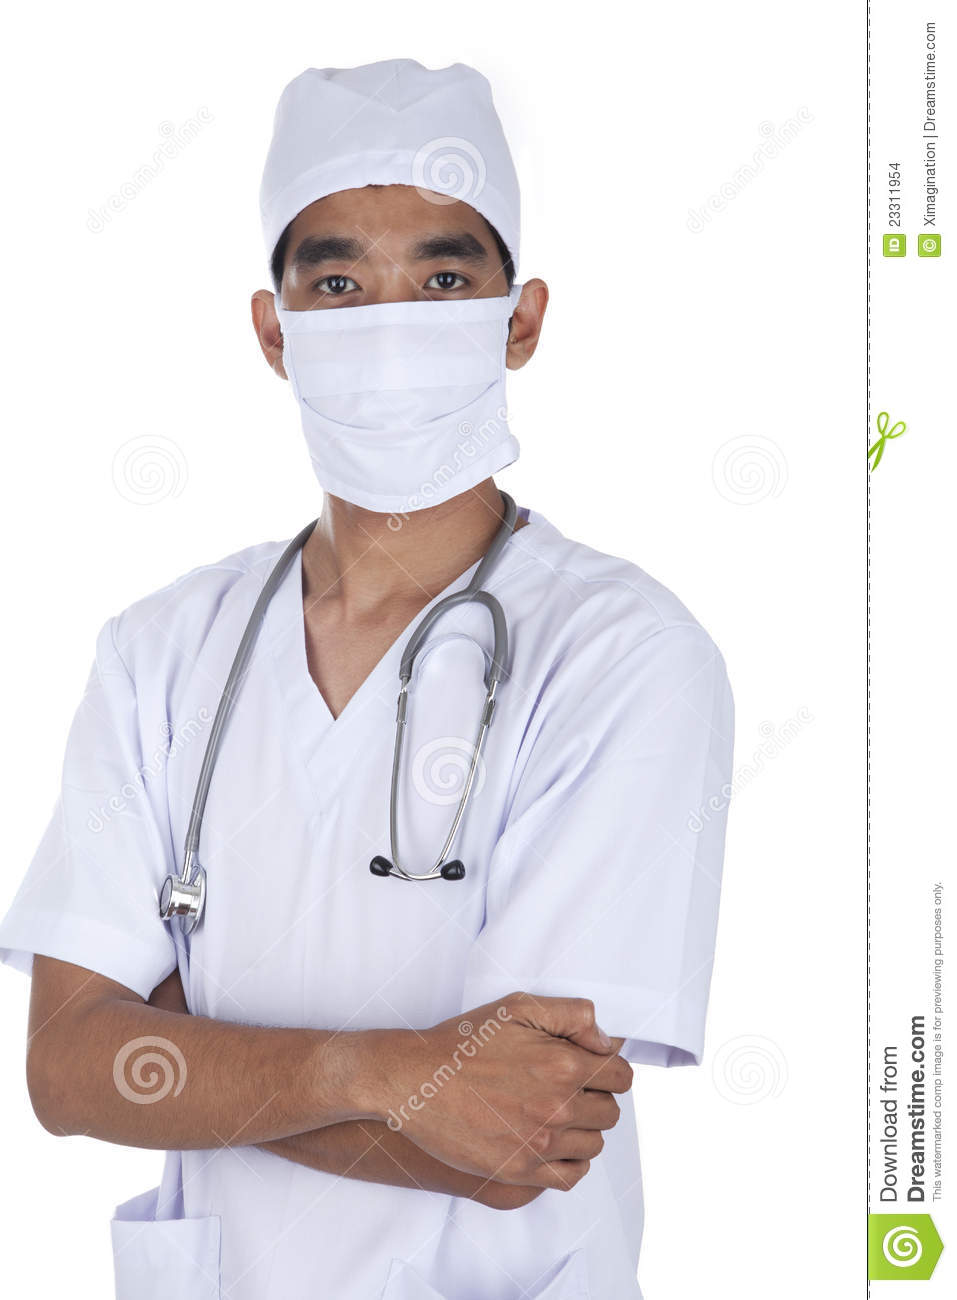mask: (274, 309, 542, 527)
